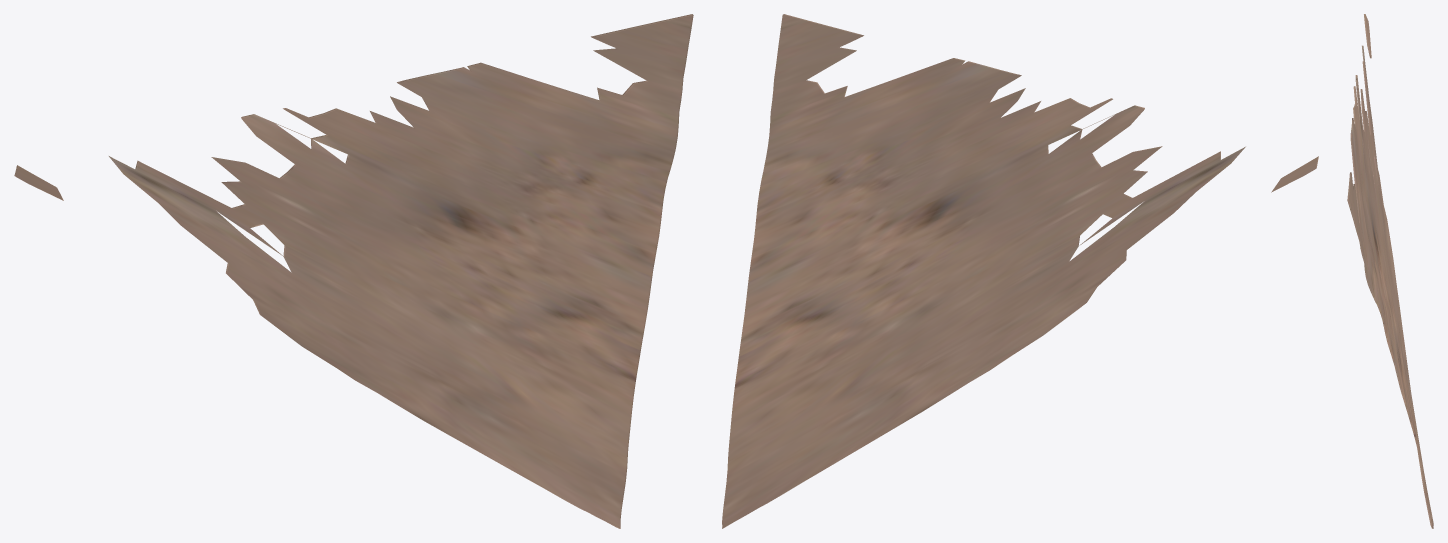
3 views of the same model, side by side, from view 1: azimuth 30°, elevation 25°; view 2: azimuth 150°, elevation 25°; view 3: azimuth 270°, elevation 25° (orthographic). The views are drawn at different scales.
Size of the model in its own units: 20.18 by 16.58 by 3.95.
1 material, 1 textured.
